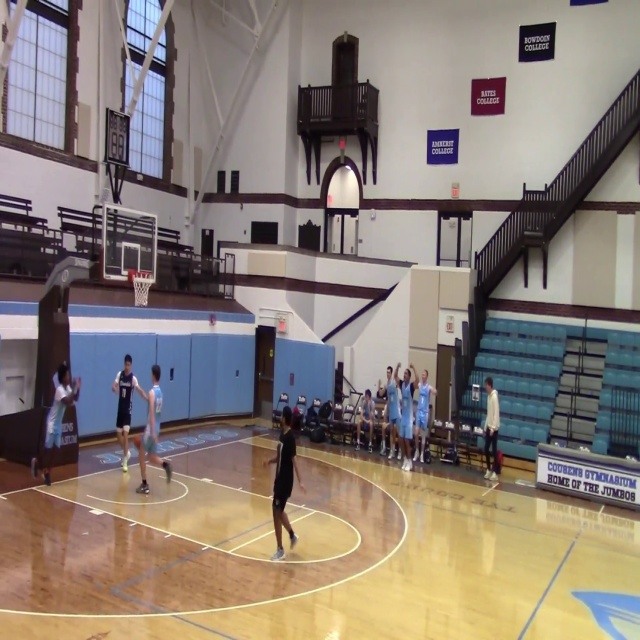Basketball: (133, 433, 154, 451), (143, 434, 154, 450), (133, 434, 142, 449)
